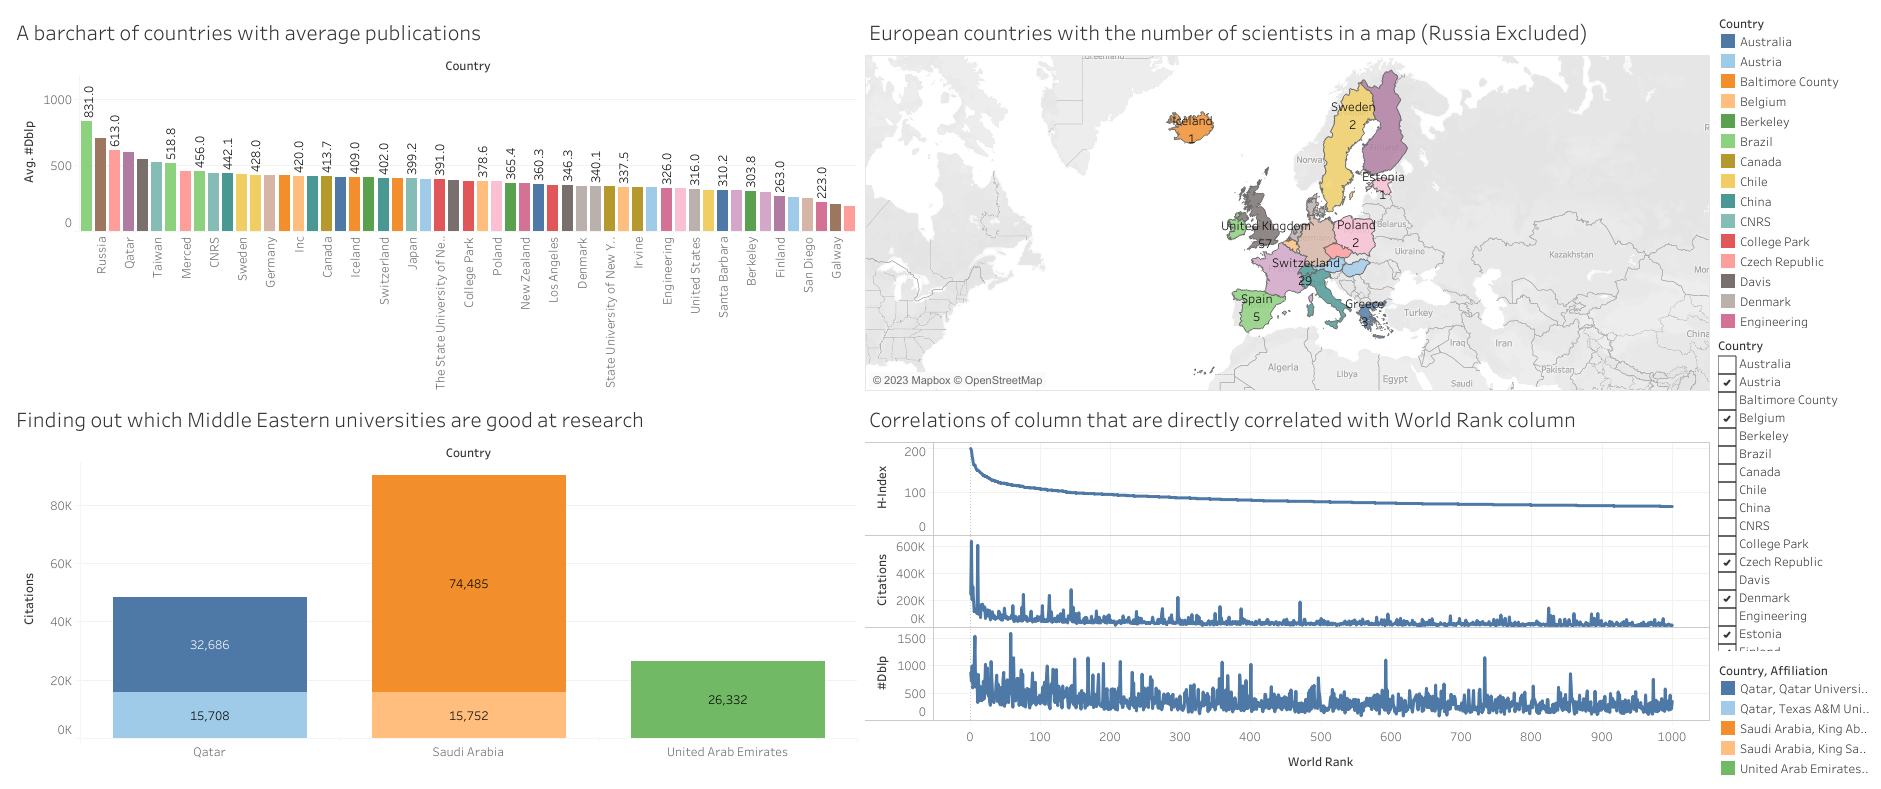

Layout of this report page (visuals, bound fields, positions):
{"tool":"tableau","page":{"name":"Demographics of Best CS Scientists Worldwide","canvas":[1000,1000],"units":"permille","ordinal":0},"visuals":[{"type":"worksheet","title":"A barchart of countries with average publications","mark":"Automatic","rows":["#DBLP"],"cols":["Country"],"box":[4.7,10,448.2,490]},{"type":"worksheet","title":"European countries with the number of scientists in a map (Russia Excluded)","mark":"Multipolygon","box":[452.9,10,448.2,490]},{"type":"legend","title":"A barchart of countries with average publications","param":"[federated.1bi811501og7d3133kd151hn12z9].[none:Country:nk]","box":[901,10,94.3,410.5]},{"type":"filter","title":"European countries with the number of scientists in a map (Russia Excluded)","param":"[federated.1bi811501og7d3133kd151hn12z9].[none:Country:nk]","box":[901,420.5,94.3,410.5]},{"type":"worksheet","title":"Finding out which Middle Eastern universities are good at research","mark":"Automatic","rows":["Citations"],"cols":["Country"],"box":[4.7,500,448.2,490]},{"type":"worksheet","title":"Correlations of column that are directly correlated with World Rank column","mark":"Automatic","rows":["H-Index","Citations","#DBLP"],"cols":["World Rank"],"box":[452.9,500,448.2,490]},{"type":"legend","title":"Finding out which Middle Eastern universities are good at research","param":"[federated.1bi811501og7d3133kd151hn12z9].[none:Country:nk]\n[federated.1bi811501o","box":[901,831,94.3,159]}]}

Visuals, with their boxes on the dashboard's canvas, which has no fixed pixel size, in thousandths of its width and height (x1, y1, x2, y2). These are canvas units, not pixel positions in the 1881x789 screenshot, which may show the page scaled, cropped or inside an application window:
"A barchart of countries with average publications" worksheet: 5 10 453 500
"European countries with the number of scientists in a map (Russia Excluded)" worksheet (Multipolygon marks): 453 10 901 500
"A barchart of countries with average publications" legend: 901 10 995 420
"European countries with the number of scientists in a map (Russia Excluded)" filter: 901 420 995 831
"Finding out which Middle Eastern universities are good at research" worksheet: 5 500 453 990
"Correlations of column that are directly correlated with World Rank column" worksheet: 453 500 901 990
"Finding out which Middle Eastern universities are good at research" legend: 901 831 995 990
